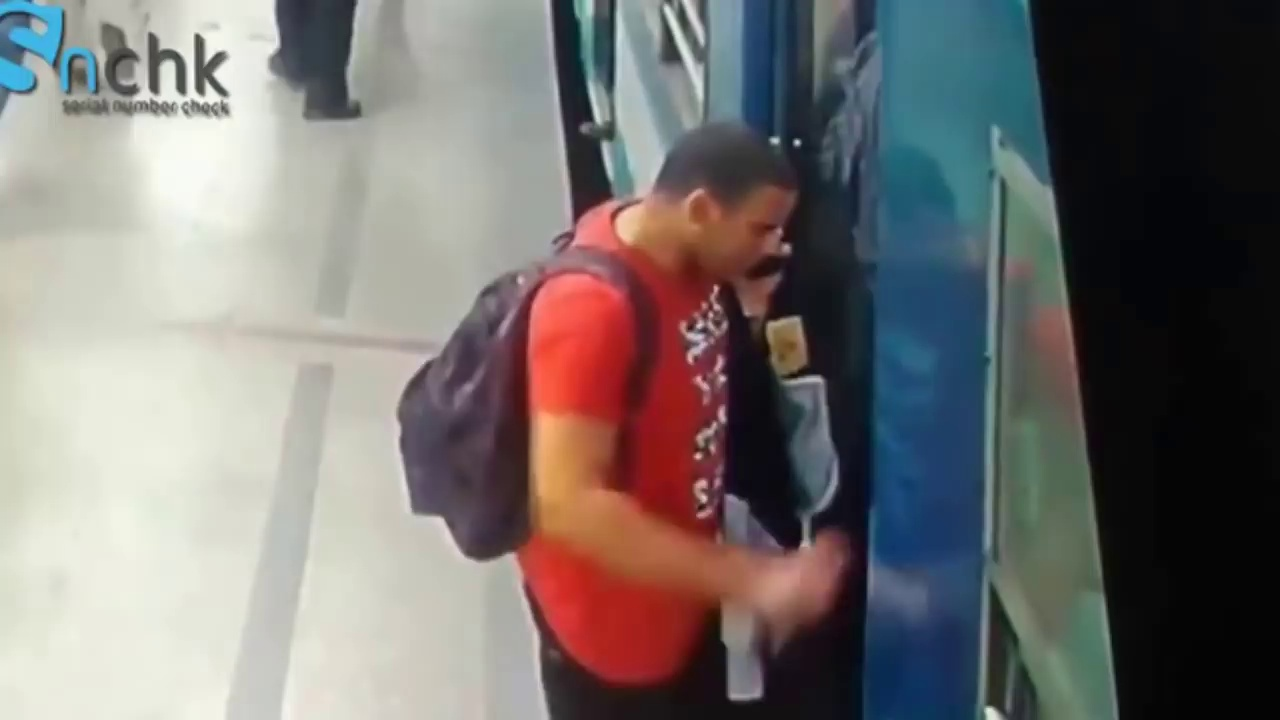face: (712, 180, 794, 280)
